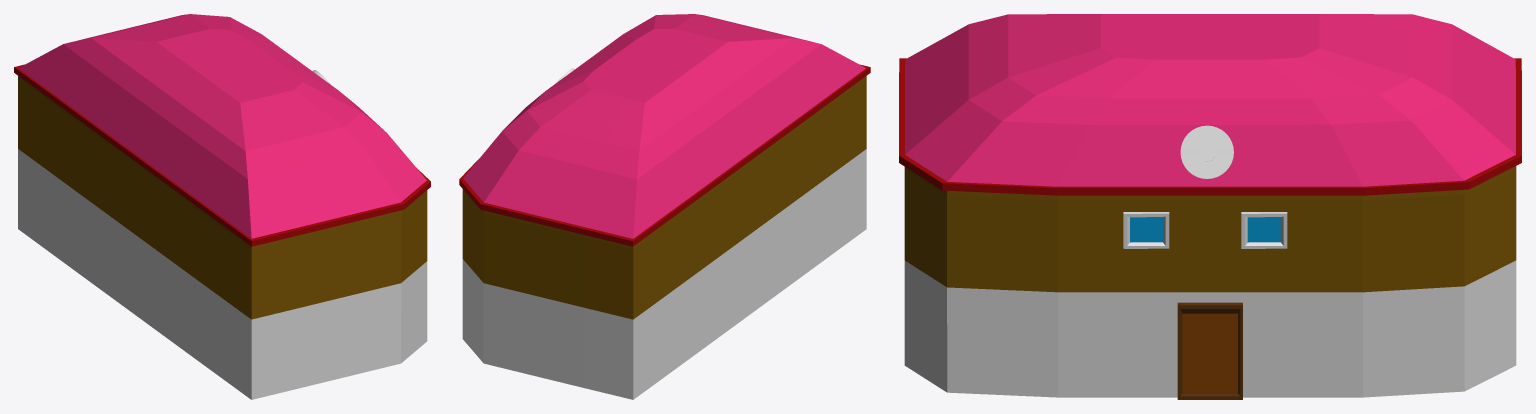
File: gym.fbx
3 views of the same model, side by side, from view 1: azimuth 30°, elevation 25°; view 2: azimuth 150°, elevation 25°; view 3: azimuth 270°, elevation 25° (orthographic). The views are drawn at different scales.
Parts seen in each view (by area): view 1: Cube; view 2: Cube; view 3: Cube, Cube.001, Cube.002, Circle.
Part boxes in pixels (bbox=[...]): Cube: bbox=[14, 14, 430, 399]; Cube: bbox=[459, 14, 870, 399]; Cube: bbox=[899, 14, 1521, 397]; Cube.001: bbox=[1177, 302, 1242, 399]; Cube.002: bbox=[1123, 212, 1287, 248]; Circle: bbox=[1180, 125, 1233, 178].
Size of the model in its own units: 492 by 519 by 986.
